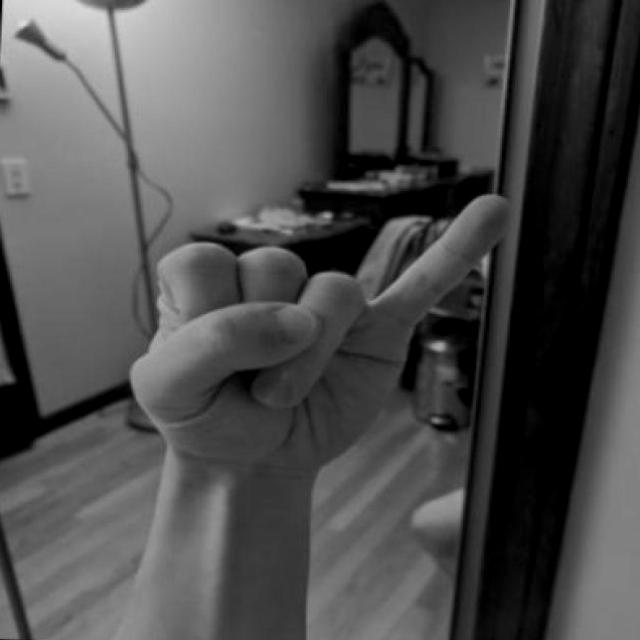I: (121, 175, 523, 491)
